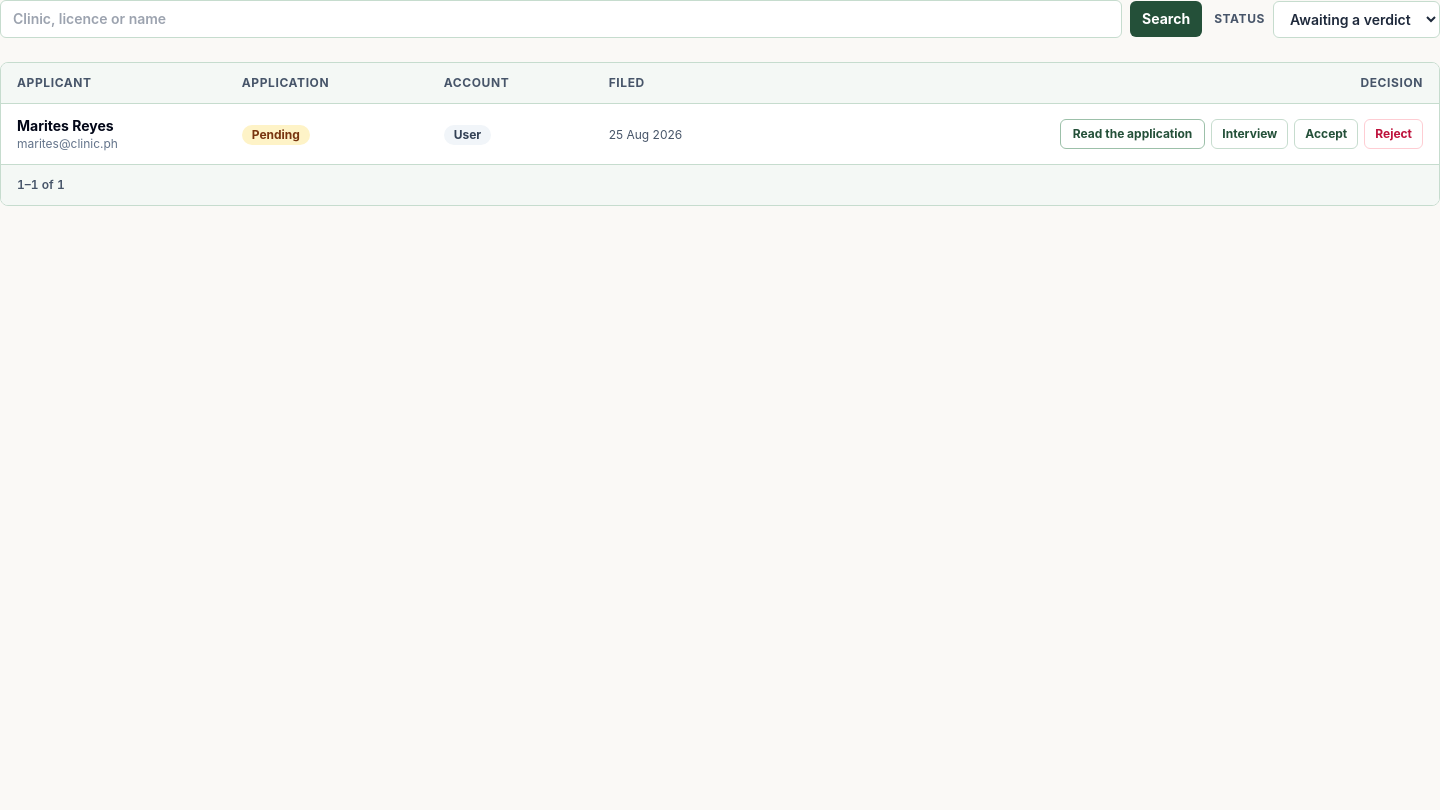
Test: reading the submission › leaves the queue as it was, and decides nothing, when the panel closes
Click the button "Read the application" at x=1133, y=134, box x1=1060 y1=119 x2=1205 y2=149
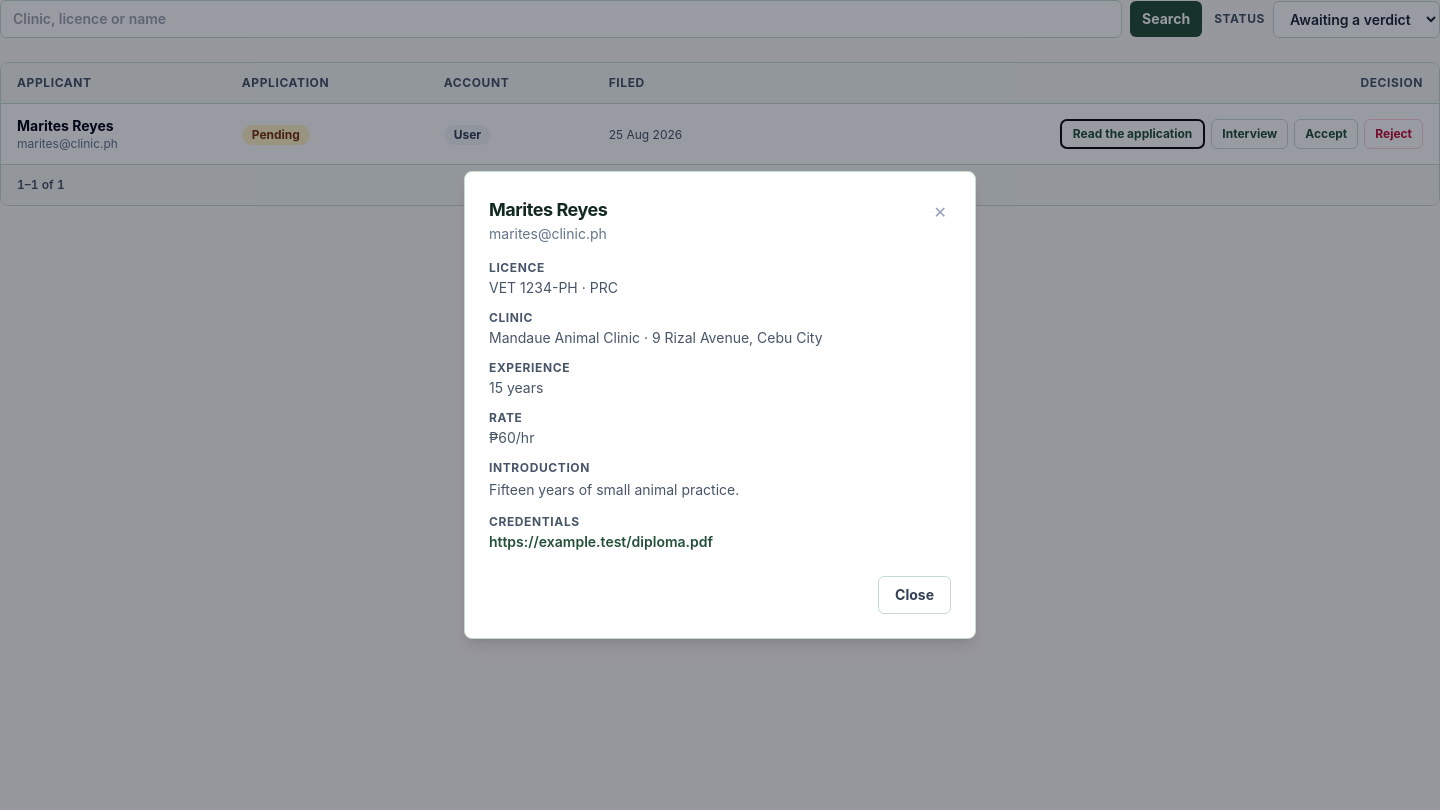
Press Escape
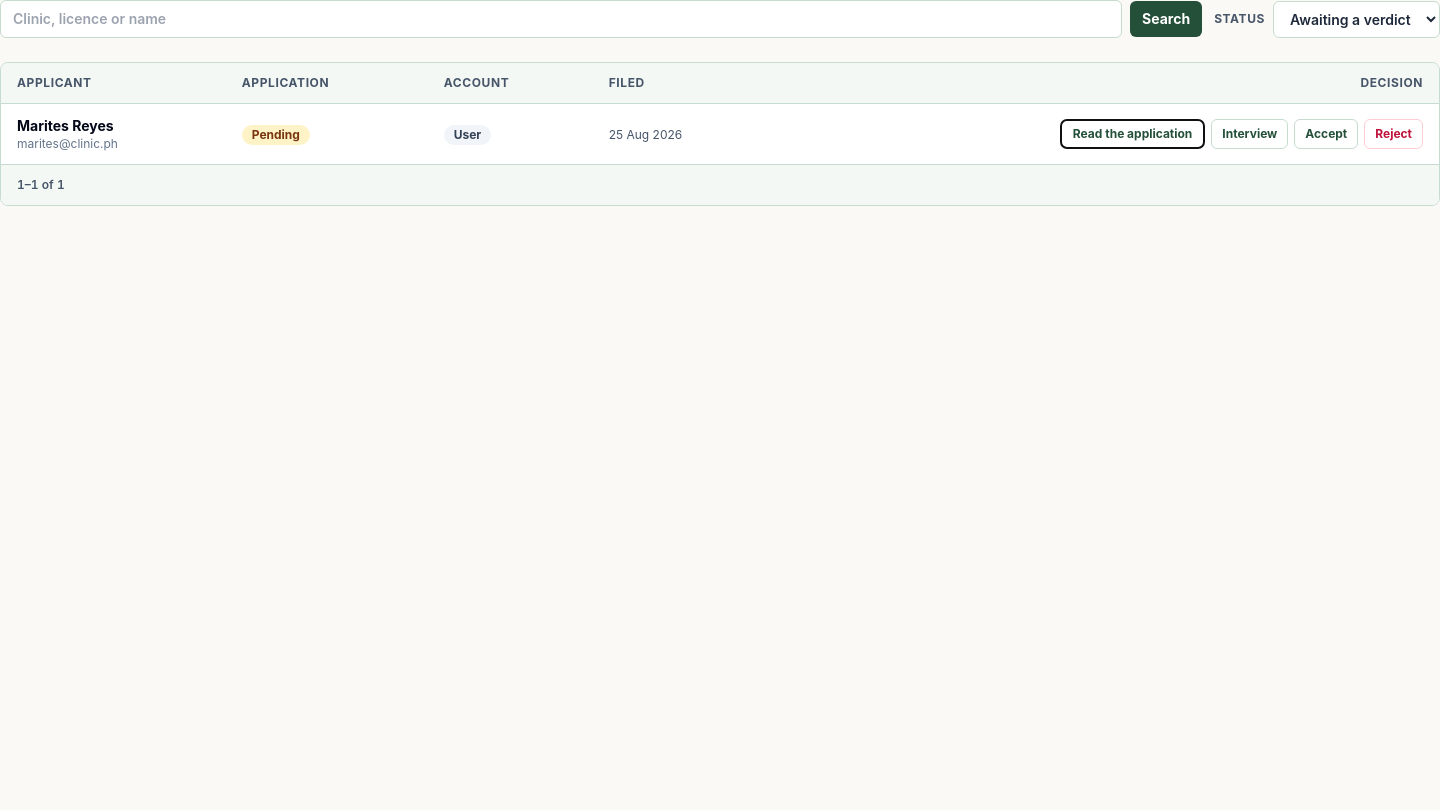
Check: the button "Accept" is shown, box x1=1294 y1=119 x2=1358 y2=149
Check: the dialog is gone
